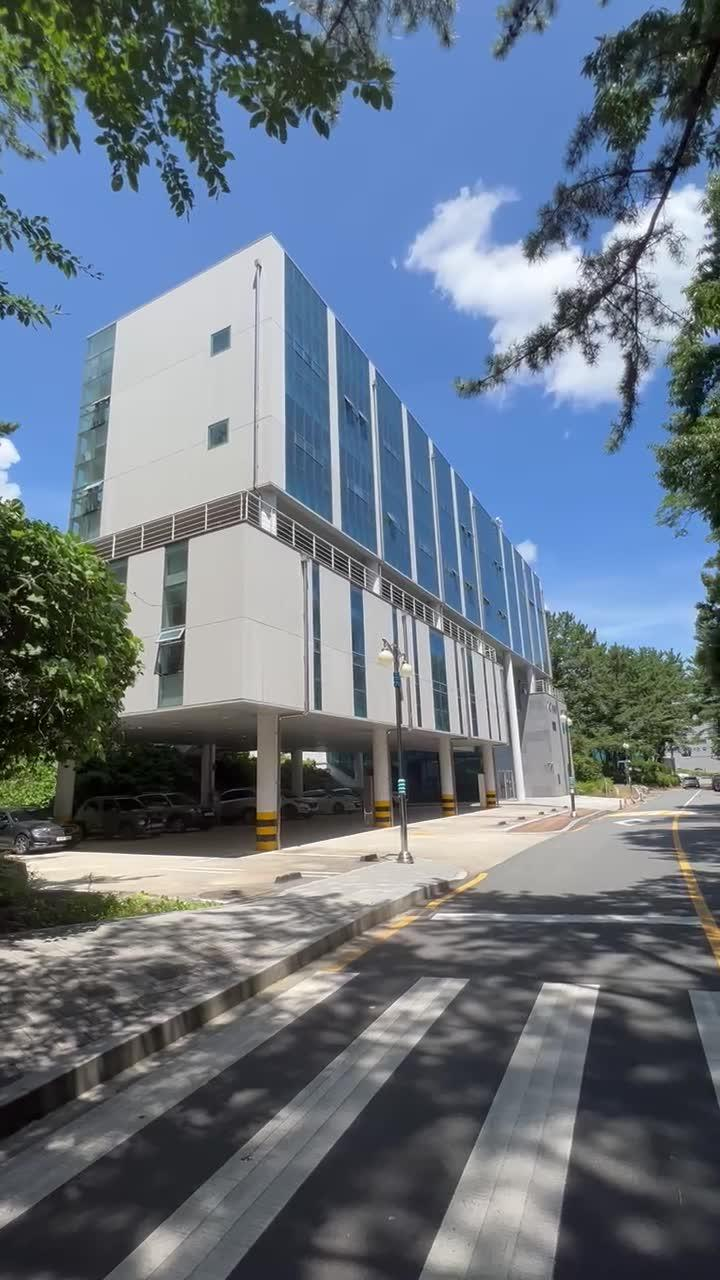building: (110, 288, 558, 798)
